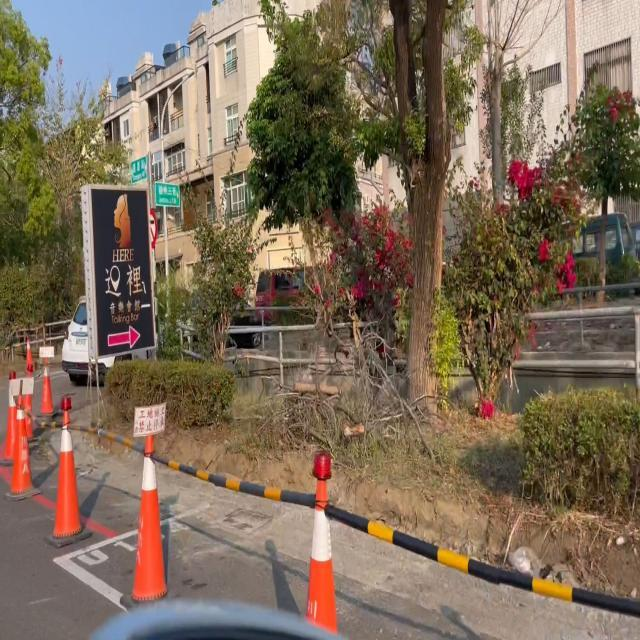car: (61, 296, 107, 386)
traffic cone: (302, 453, 358, 640), (120, 446, 170, 609), (44, 396, 93, 549), (4, 407, 42, 502), (37, 360, 58, 417), (23, 337, 35, 376)
